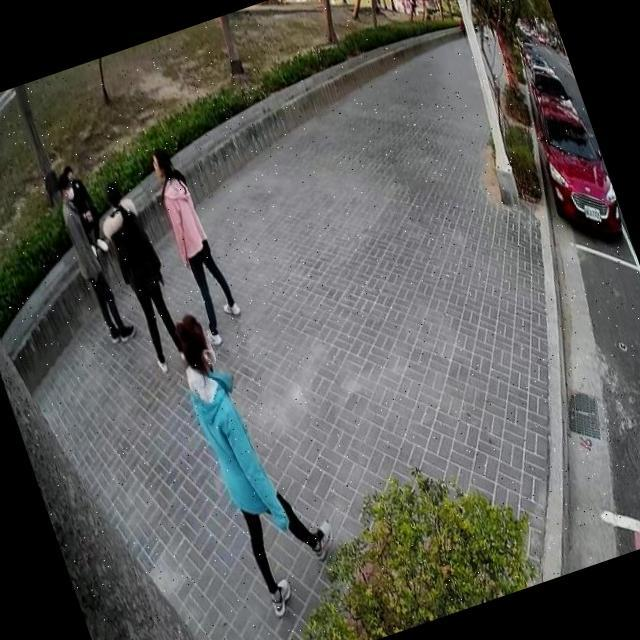person: (159, 286, 356, 624), (134, 134, 252, 355), (84, 170, 196, 380), (43, 164, 141, 353), (57, 156, 113, 262), (475, 15, 496, 54)
